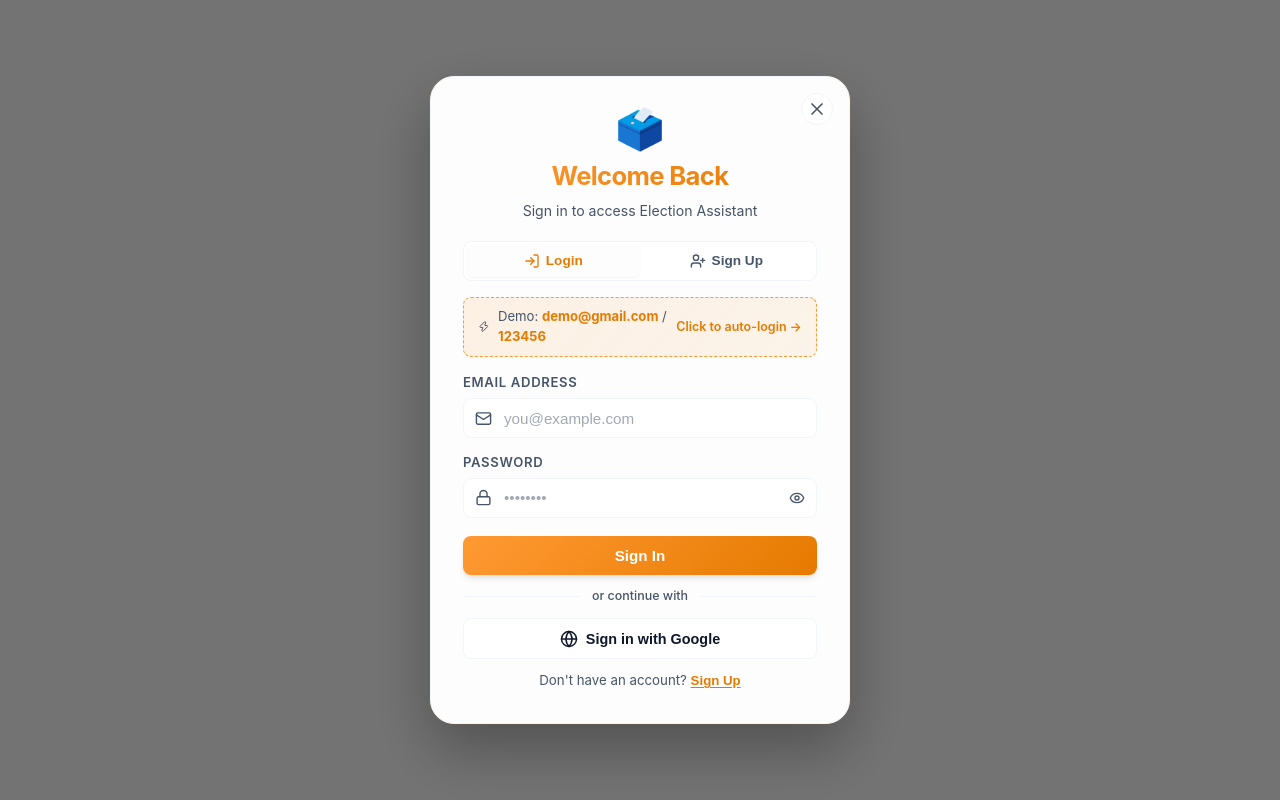
Scenario: 🔒 Login Form Validation › shows error for password shorter than 6 characters
The width and height of the screenshot is (1280, 800).
Type "test@test.com" into the field labelled "Email Address".
click(640, 418); type("test@test.com")  # box x1=463 y1=398 x2=817 y2=438
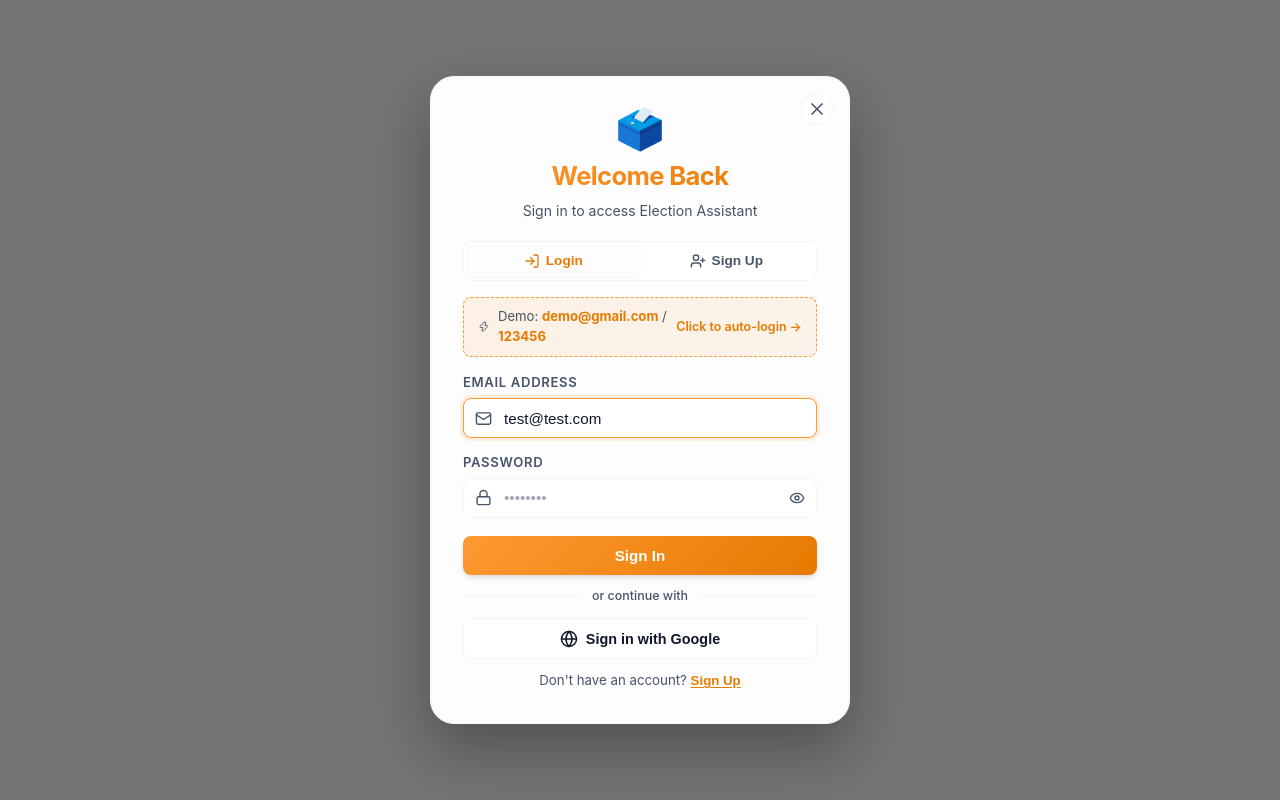
Type "123" into the password field with id "auth-password".
click(640, 498); type("123")  # box x1=463 y1=478 x2=817 y2=518
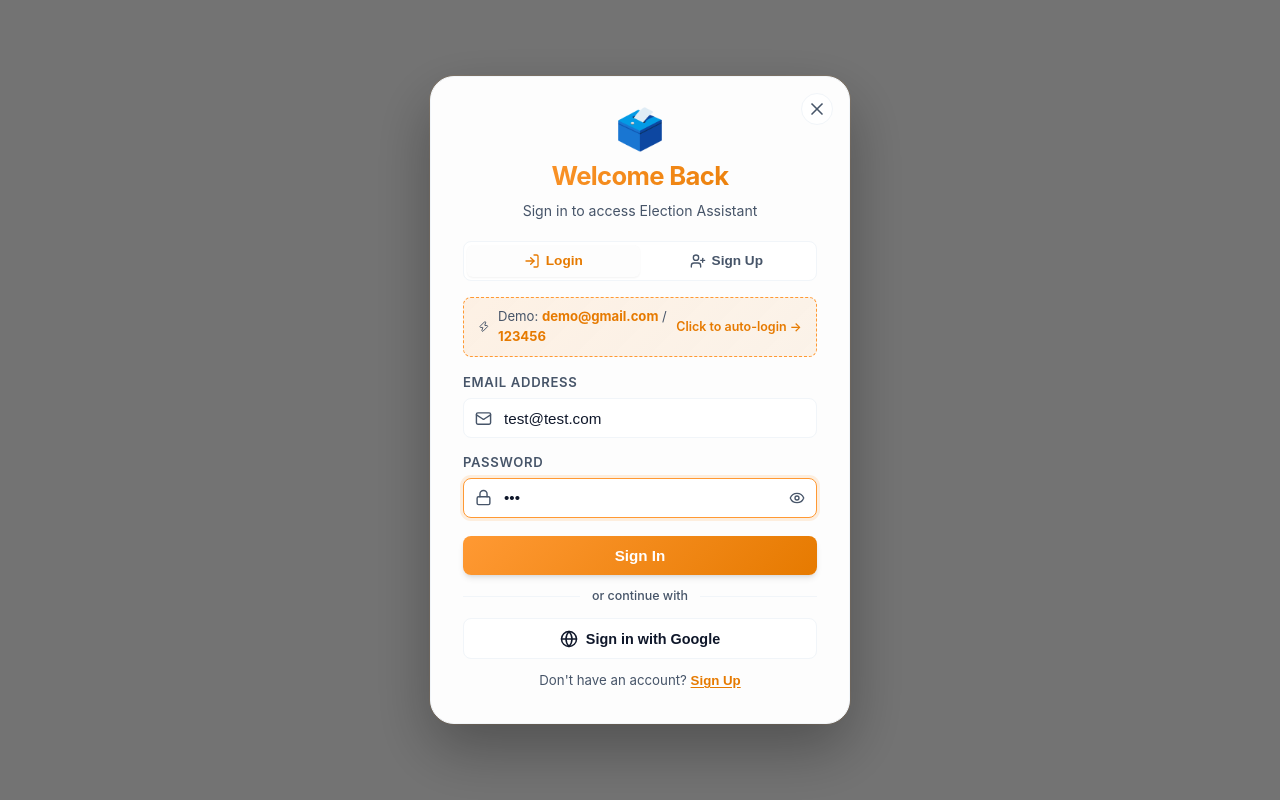
Click the button with class "auth-submit-btn".
click(640, 556)  # box x1=463 y1=536 x2=817 y2=576
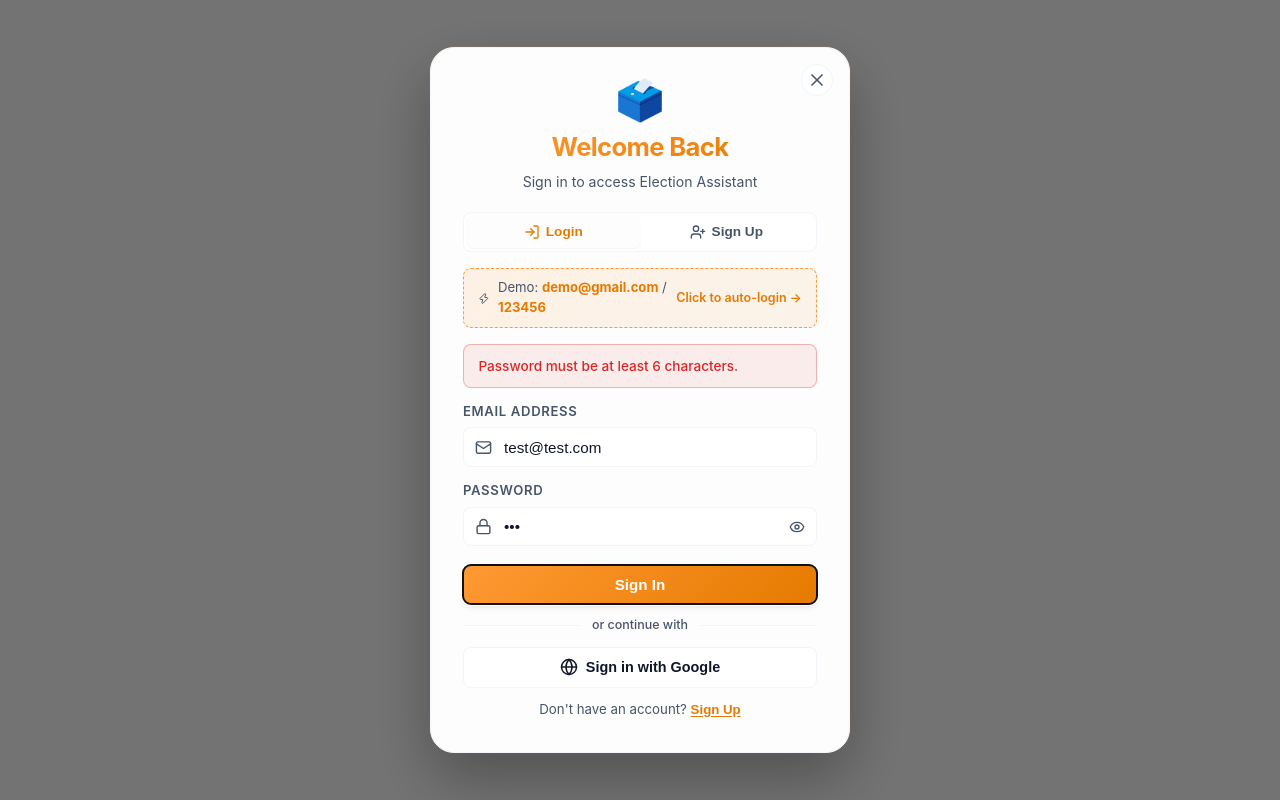
Now the text "Password must be at least 6 characters." is shown, box x1=463 y1=344 x2=817 y2=388
